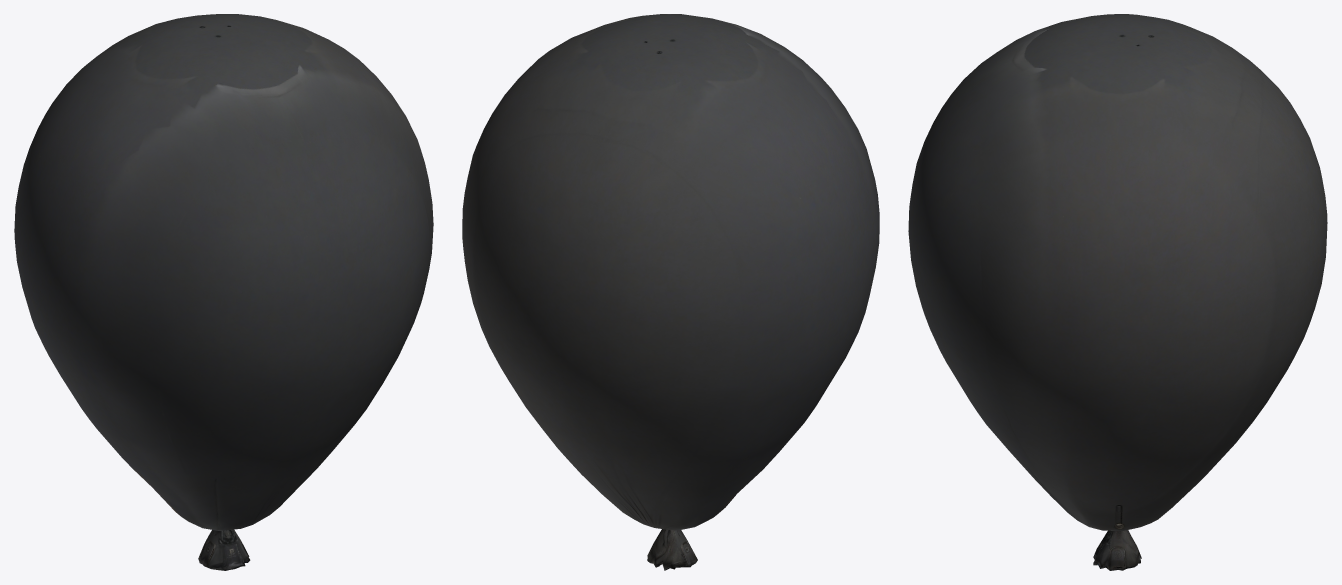
File: A_single_low_poly_3D__1213235924_texture.fbx
3 renders of one model, left to right at view 1: azimuth 30°, elevation 25°; view 2: azimuth 150°, elevation 25°; view 3: azimuth 270°, elevation 25°, orthographic.
Visible parts, largest first — view 1: Mesh_0; view 2: Mesh_0; view 3: Mesh_0.
Boxes of the visible parts, x1,y1,x2,y2 form: Mesh_0: [14, 14, 433, 570]; Mesh_0: [462, 14, 879, 570]; Mesh_0: [908, 14, 1327, 570].
Bounding box in the file's own units: 130 × 181 × 130.
1 material, 1 textured.
